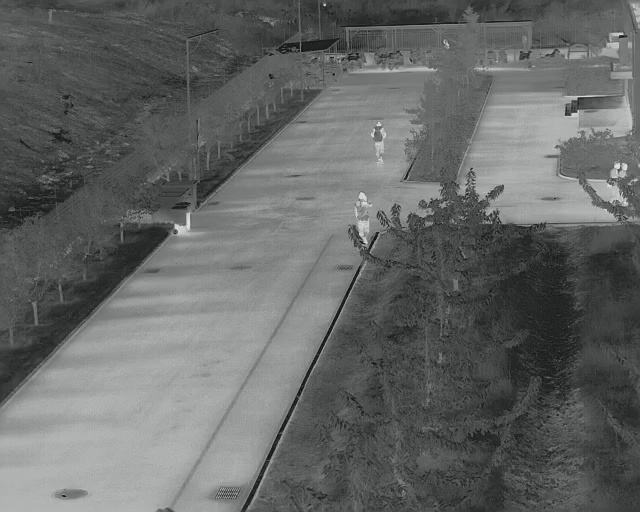person: (354, 189, 374, 242), (369, 119, 387, 166), (608, 160, 621, 186), (618, 163, 629, 181)
